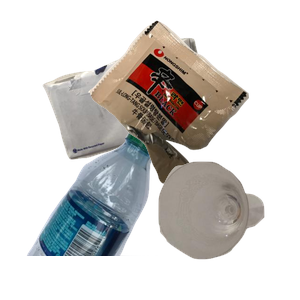glass: (156, 159, 300, 300)
paper: (40, 35, 249, 187)
plastic: (24, 120, 182, 300)
trash: (86, 18, 300, 194)
